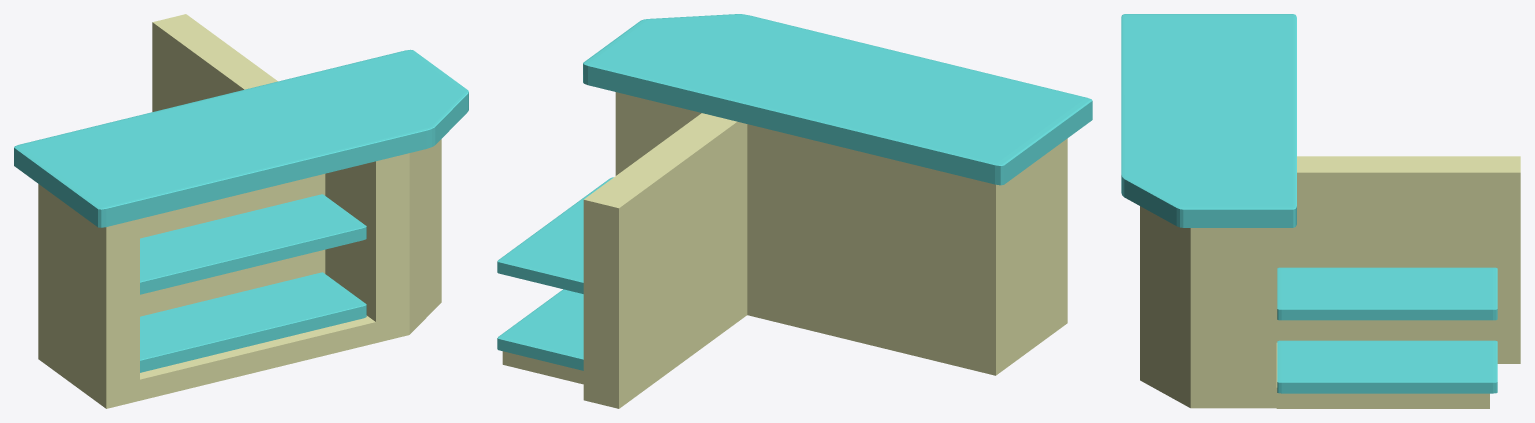
Rendered from new_counter.fbx.
3 renders of one model, left to right at view 1: azimuth 30°, elevation 25°; view 2: azimuth 150°, elevation 25°; view 3: azimuth 270°, elevation 25°, orthographic. The views are drawn at different scales.
Parts seen in each view (by area): view 1: counter.001, countertop, shelf.002, shelf.001; view 2: counter.001, countertop, shelf.004, shelf.003; view 3: counter.001, countertop, shelf.003, shelf.004.
Boxes of the visible parts, box(x1,y1,x2,y2) form: counter.001: box(38, 14, 441, 408); countertop: box(14, 49, 468, 227); shelf.002: box(140, 194, 366, 294); shelf.001: box(140, 272, 366, 372); counter.001: box(502, 92, 1067, 408); countertop: box(583, 14, 1092, 185); shelf.004: box(497, 177, 613, 293); shelf.003: box(497, 289, 583, 370); counter.001: box(1140, 156, 1520, 408); countertop: box(1121, 14, 1296, 227); shelf.003: box(1277, 340, 1497, 393); shelf.004: box(1277, 267, 1497, 320).
Size of the model in its own units: 65.87 by 33.04 by 56.87.
